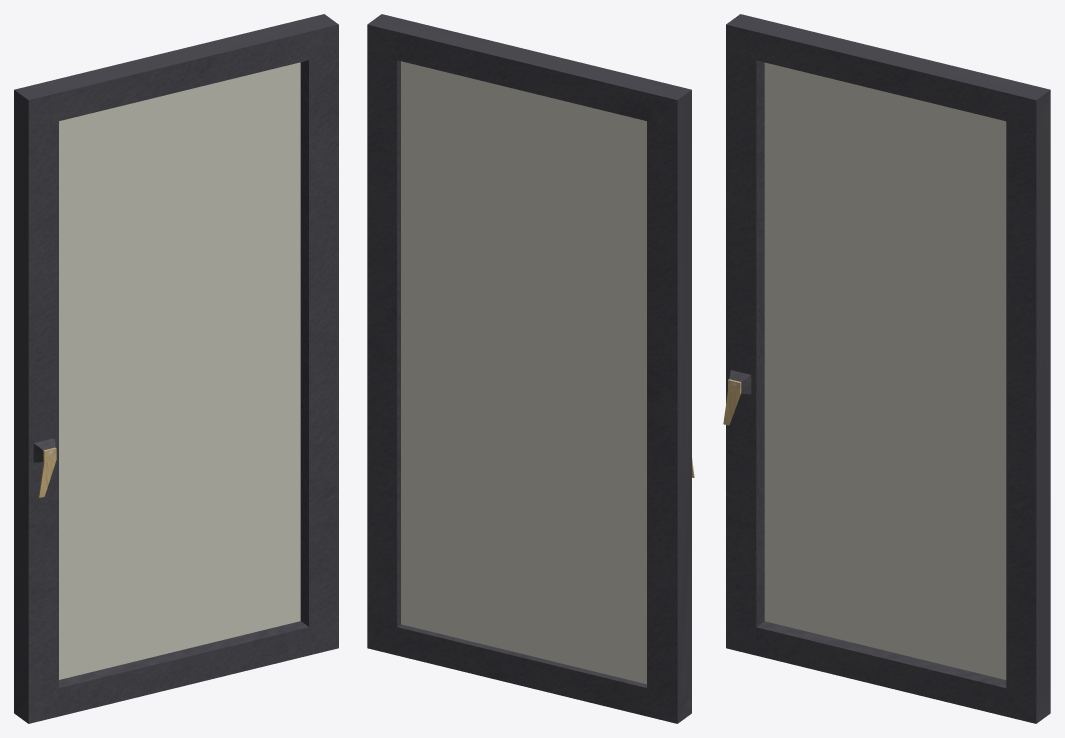
The model's file is window_right.fbx.
The picture shows the model from 3 angles, left to right: view 1: azimuth 30°, elevation 25°; view 2: azimuth 150°, elevation 25°; view 3: azimuth 330°, elevation 25°; orthographic projection.
Visible parts, largest first — view 1: Glass.001; view 2: Glass.001; view 3: Glass.001.
Boxes of the visible parts, box(x1,y1,x2,y2) form: Glass.001: box(14, 14, 338, 723); Glass.001: box(367, 14, 694, 723); Glass.001: box(723, 14, 1050, 723).
Size of the model in its own units: 233 by 448 by 27.89.
